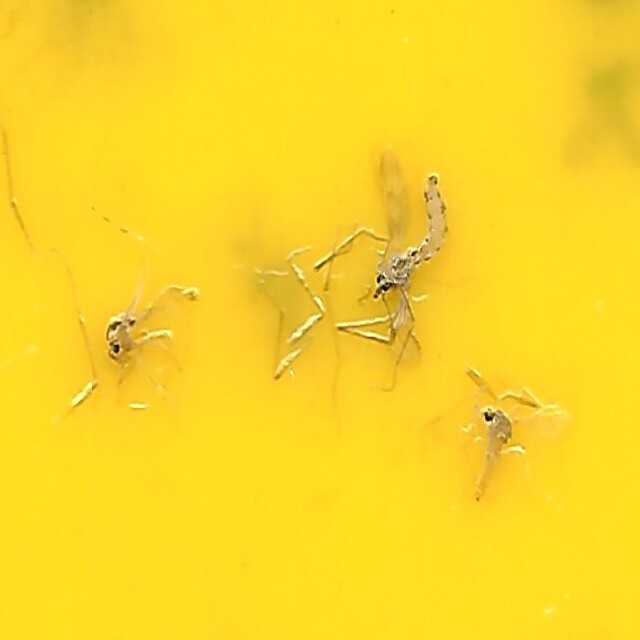Nematocera: (355, 134, 449, 302), (462, 362, 541, 506), (99, 278, 198, 386)
